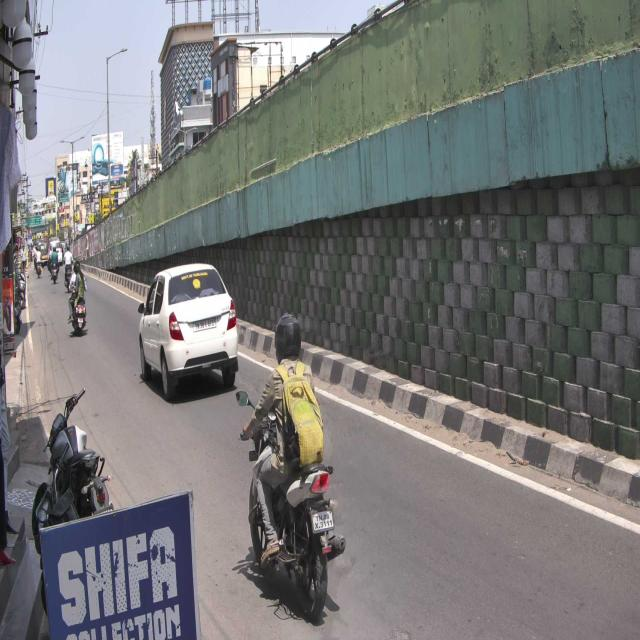single_rider: (237, 308, 347, 627)
